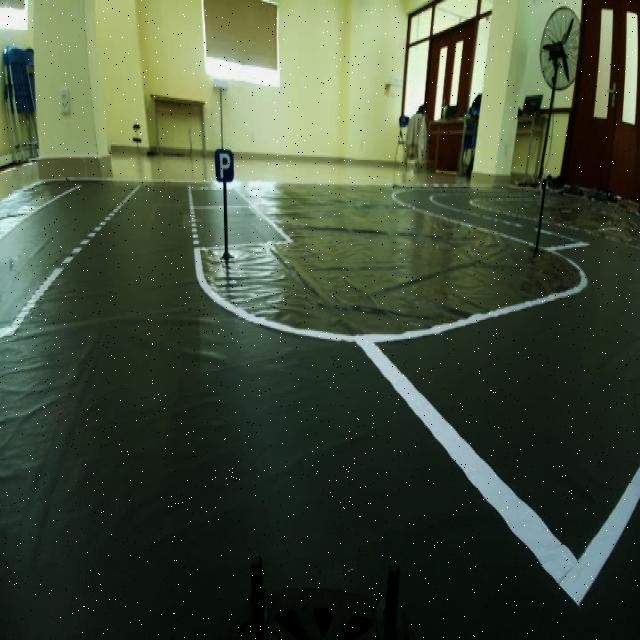parking: (210, 142, 239, 184)
